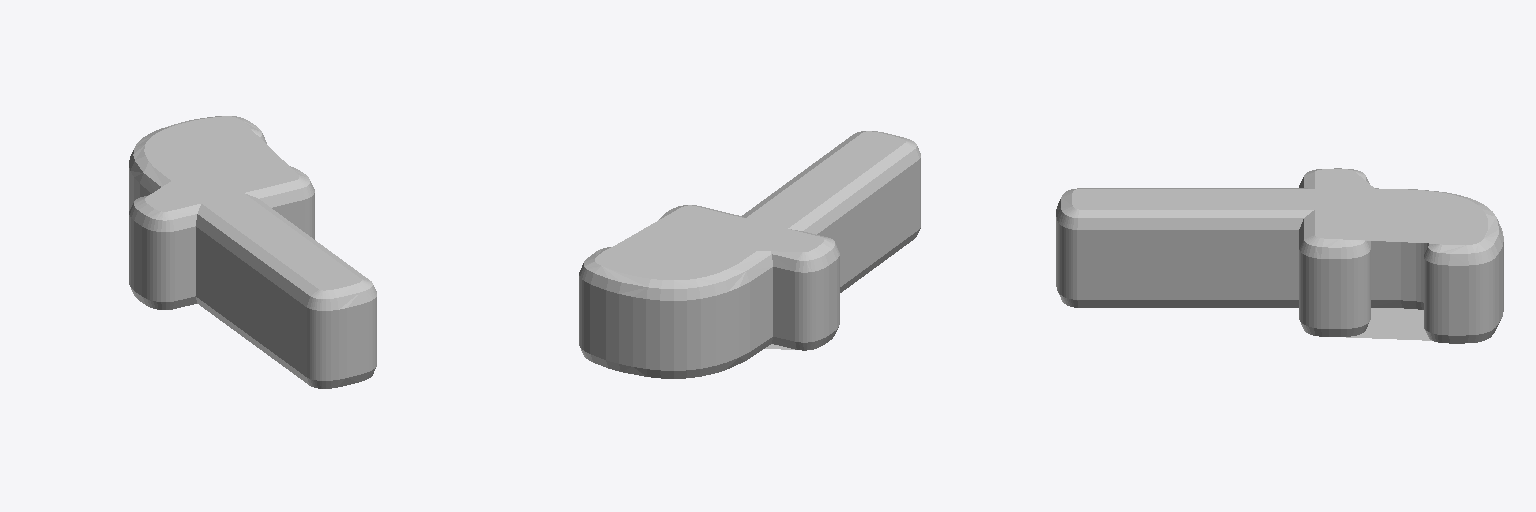
Rendered from facebook.obj.
The picture shows the model from 3 angles: view 1: azimuth 30°, elevation 25°; view 2: azimuth 150°, elevation 25°; view 3: azimuth 270°, elevation 25°; orthographic projection.
Visible parts, largest first — view 1: A_Text; view 2: A_Text; view 3: A_Text.
Boxes of the visible parts, box(x1,y1,x2,y2) form: A_Text: box(129, 116, 376, 388); A_Text: box(579, 131, 920, 378); A_Text: box(1056, 168, 1503, 343).
Size of the model in its own units: 0.2733 by 0.14 by 0.58.